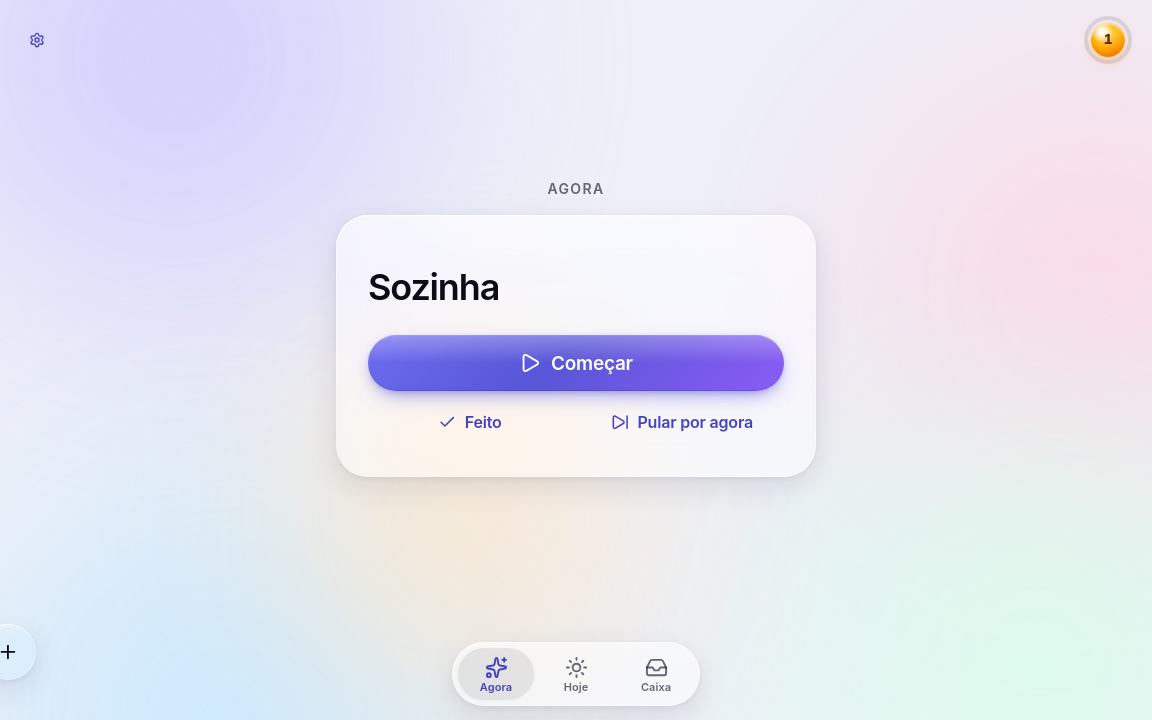
Agora › Pular a única tarefa avisa que é a única, sem trocar o card
What coordinates should you click on to do the following:
click the button "Pular por agora"
I would click on:
 (682, 422)
Its box is left=580, top=399, right=784, bottom=445.
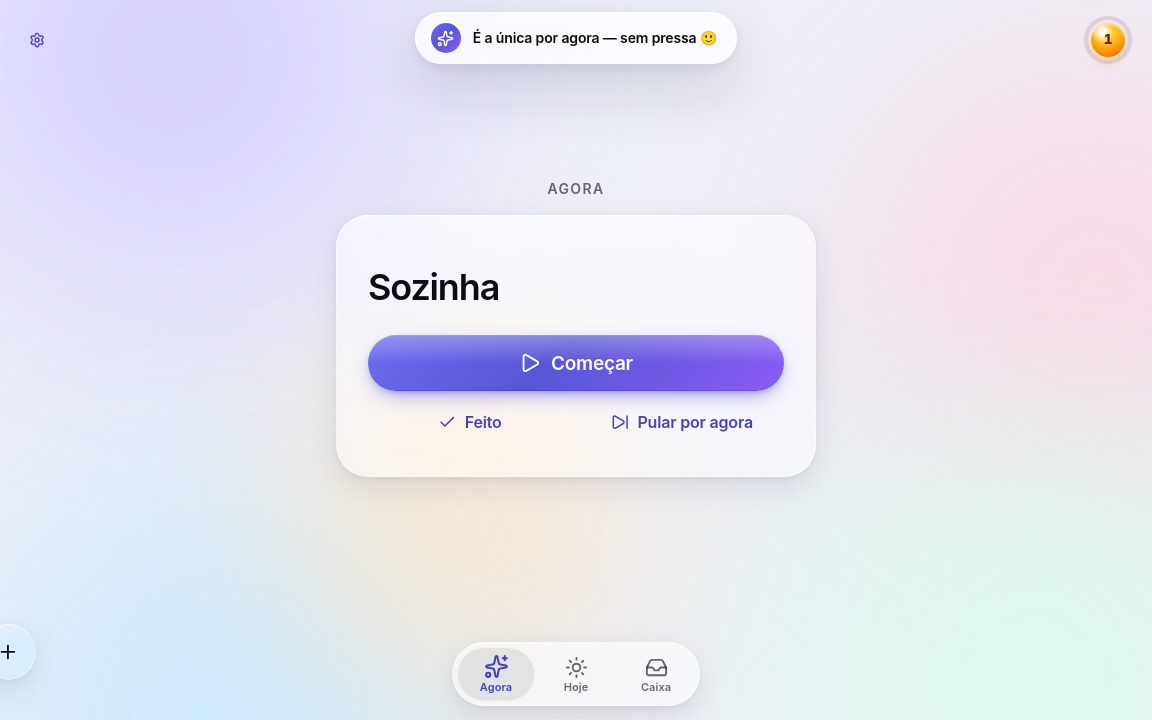
Expected: the heading "Sozinha" is shown, left=368, top=265, right=499, bottom=309
Now the text "É a única por agora — sem pressa 🙂" is shown, box left=473, top=29, right=717, bottom=47
